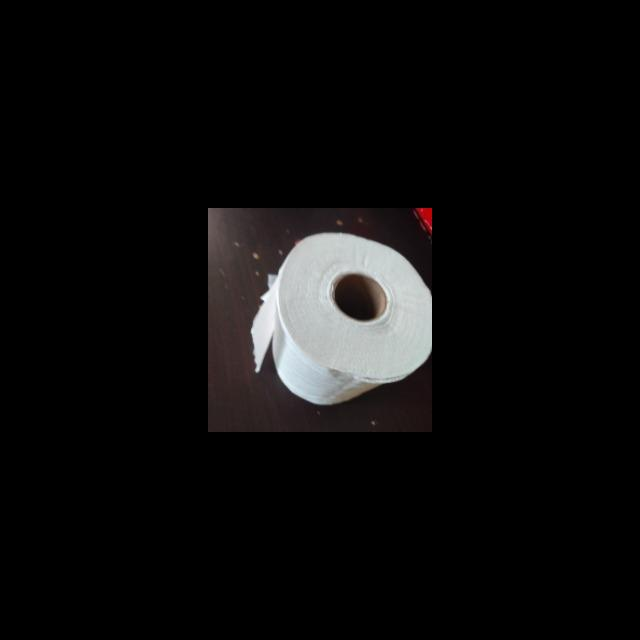paper: (243, 229, 432, 407)
